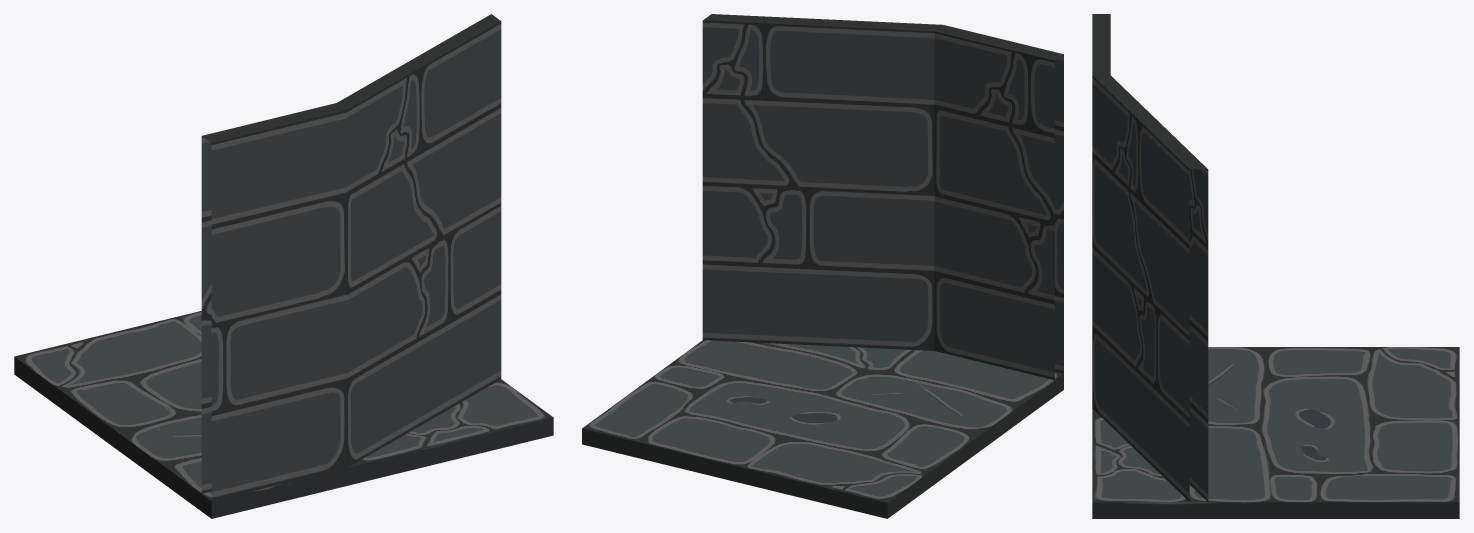
The model's file is Wall-MCURVE-SSE_v1.2.fbx.
3 renders of one model, left to right at view 1: azimuth 30°, elevation 25°; view 2: azimuth 150°, elevation 25°; view 3: azimuth 270°, elevation 25°, orthographic. The views are drawn at different scales.
Parts seen in each view (by area): view 1: Wall-MCURV-SSE; view 2: Wall-MCURV-SSE; view 3: Wall-MCURV-SSE.
Boxes of the visible parts, x1,y1,x2,y2 form: Wall-MCURV-SSE: (14,14,553,518); Wall-MCURV-SSE: (582,14,1063,518); Wall-MCURV-SSE: (1092,14,1459,518).
Size of the model in its own units: 100 by 100 by 105.
